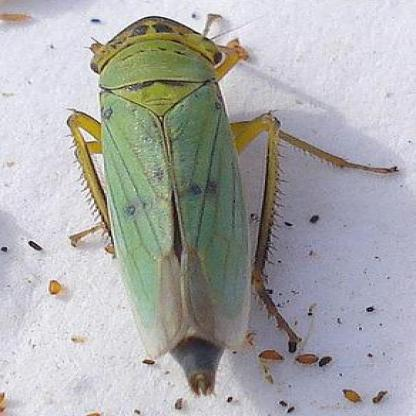Green-Leafhopper: (49, 5, 408, 404)
